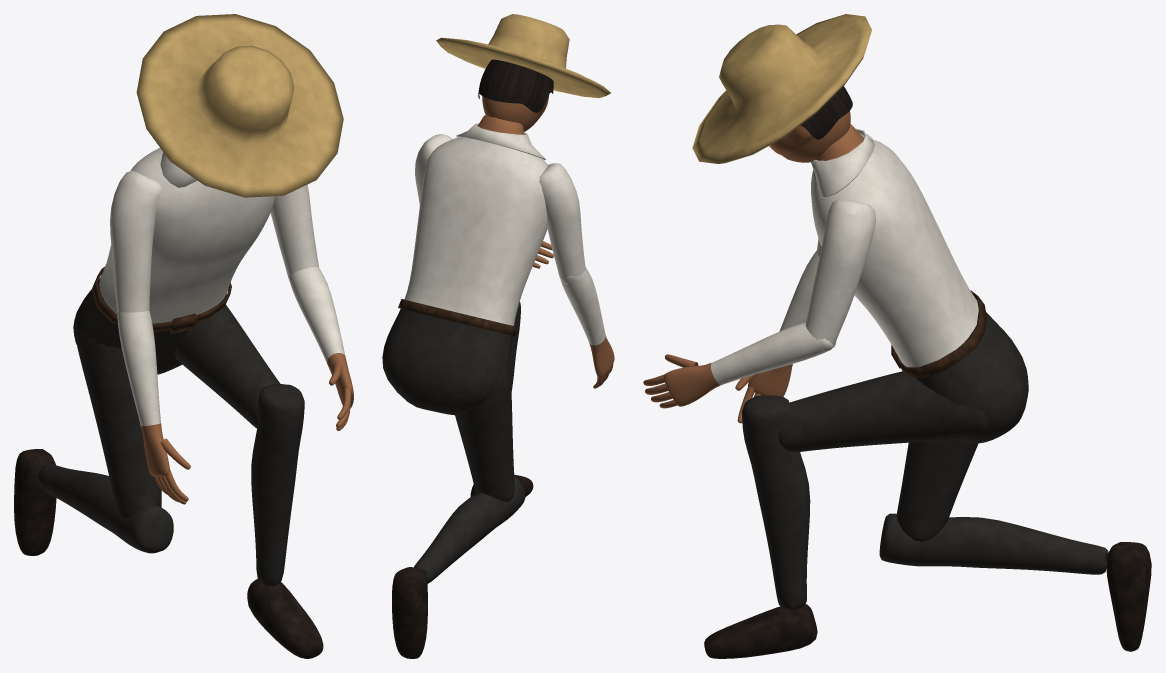
Rendered from persona_hombre_agachado.obj.
3 renders of one model, left to right at view 1: azimuth 30°, elevation 25°; view 2: azimuth 150°, elevation 25°; view 3: azimuth 270°, elevation 25°, orthographic. The views are drawn at different scales.
Visible parts, largest first — view 1: persona_hombre_agachado; view 2: persona_hombre_agachado; view 3: persona_hombre_agachado.
Part boxes in pixels (left/top/right/bottom): persona_hombre_agachado: left=14, top=14, right=353, bottom=658; persona_hombre_agachado: left=382, top=14, right=614, bottom=658; persona_hombre_agachado: left=643, top=14, right=1151, bottom=658.
Bounding box in the file's own units: 0.4793 × 1.45 × 1.05.
Materials: 13 (13 with a texture image).
